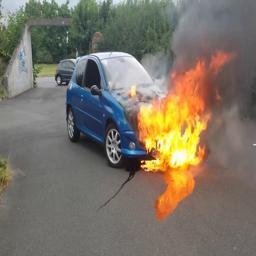fire: (132, 50, 236, 171)
